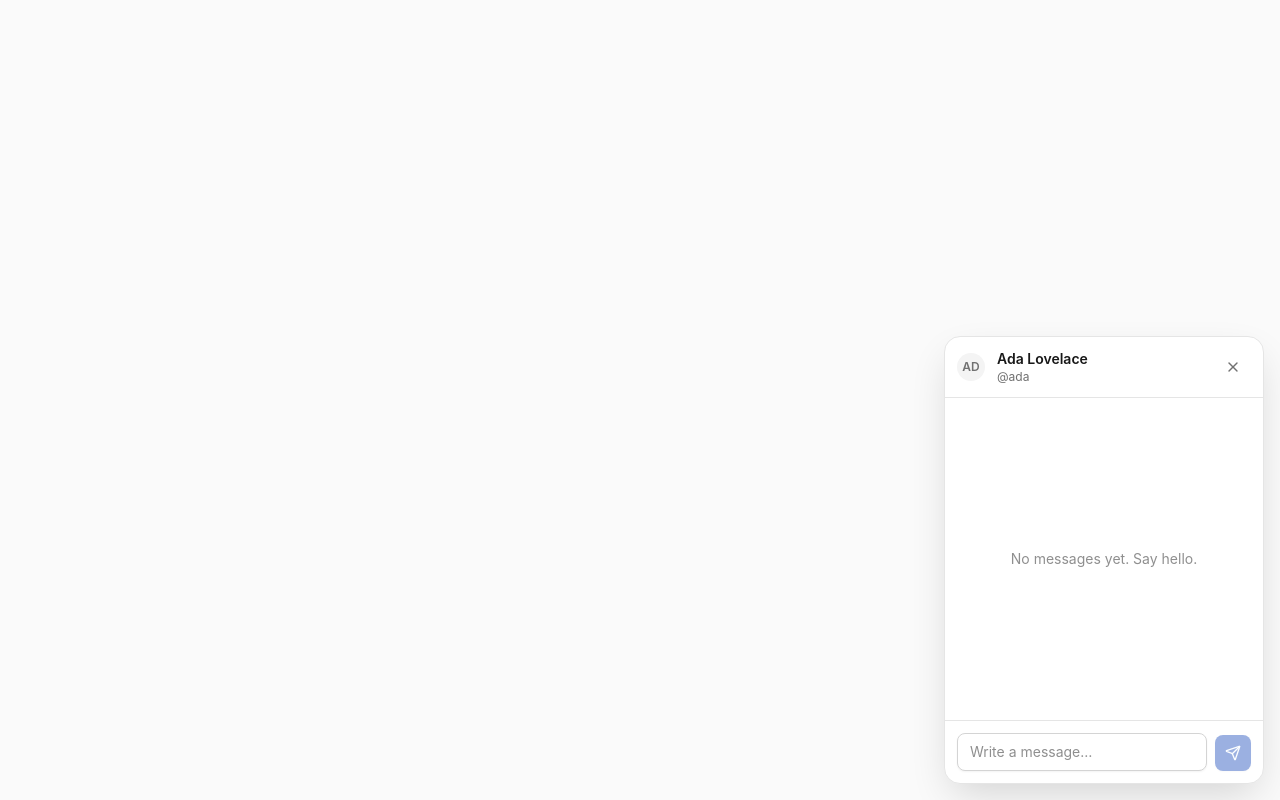
Test: opening a second conversation replaces the first, with no carried-over messages
Type "note to Ada" into the text box at [1082, 752], box [957, 733, 1207, 771]
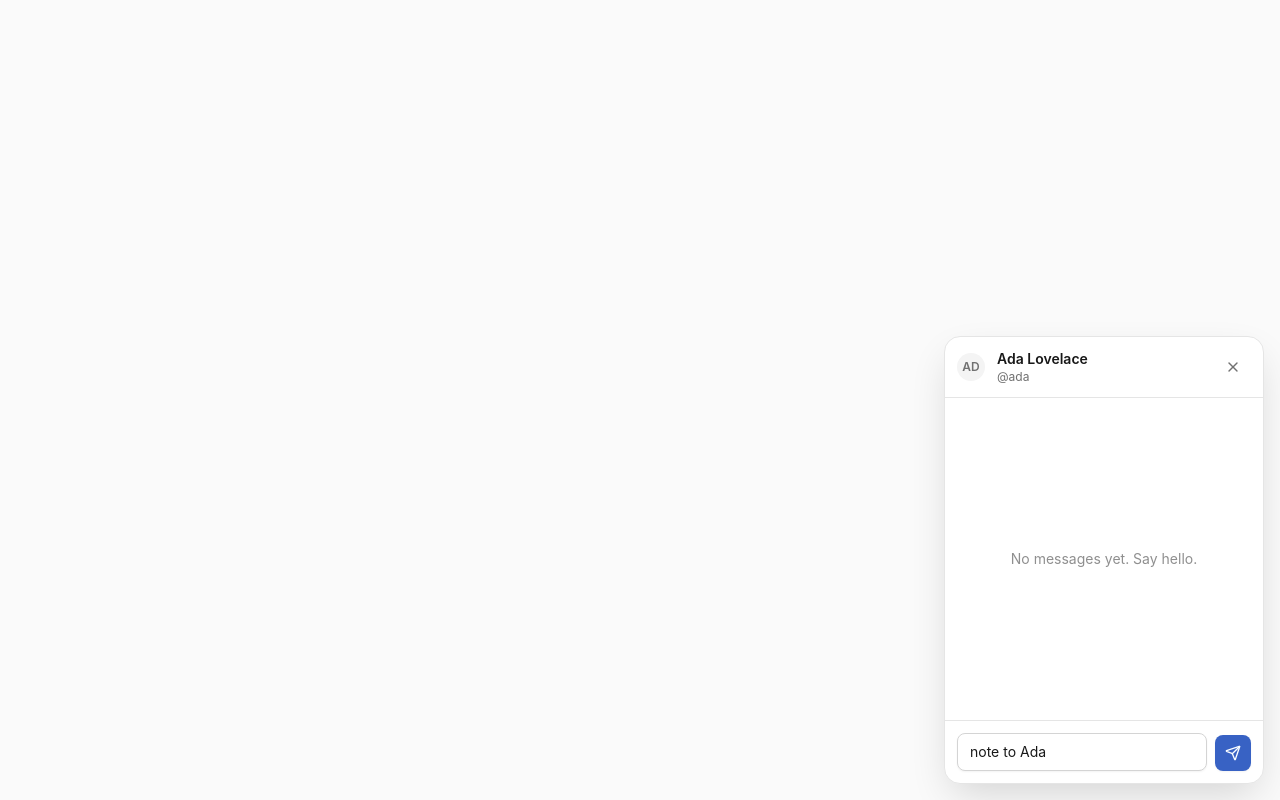
Click the button named "Send" at [1233, 753], box [1215, 735, 1251, 771]
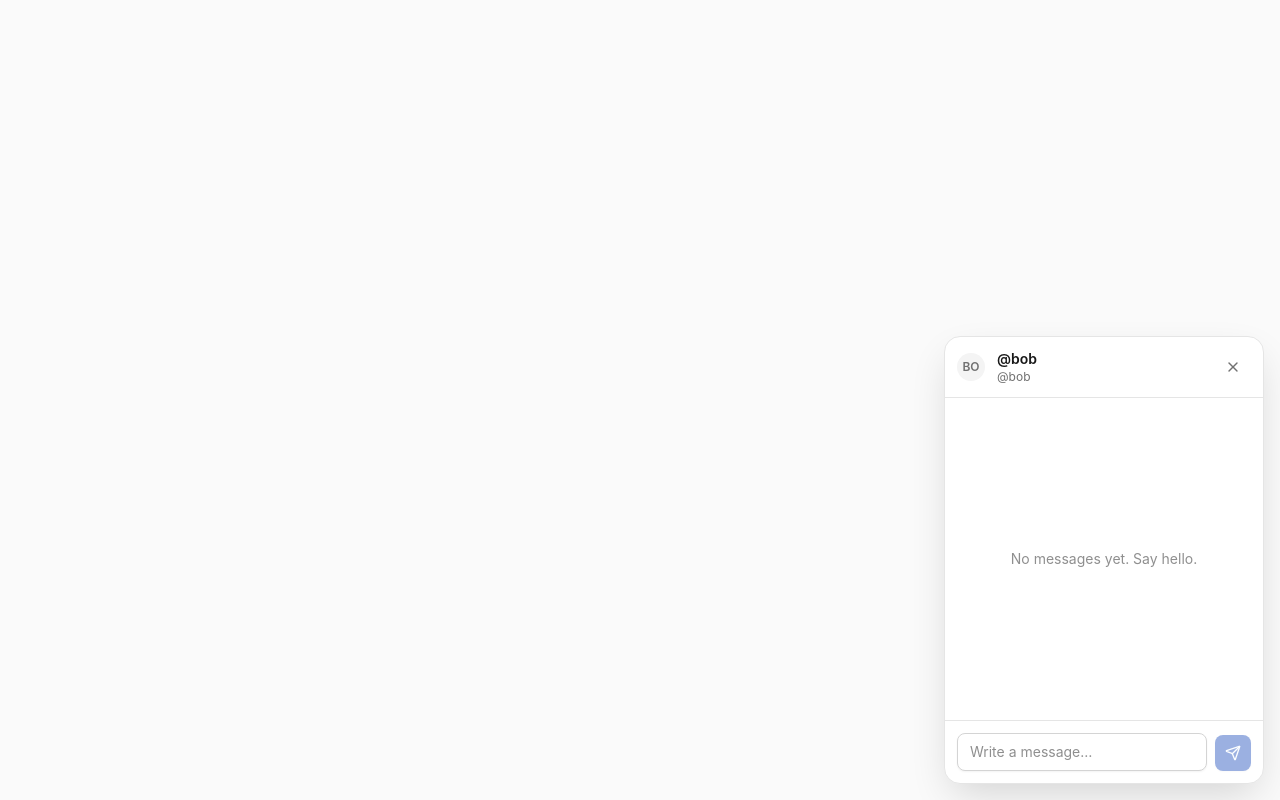
Expected: the text "note to Ada" is not shown
Expected: the dialog named "Chat with @bob" is shown, [944, 336, 1264, 784]
